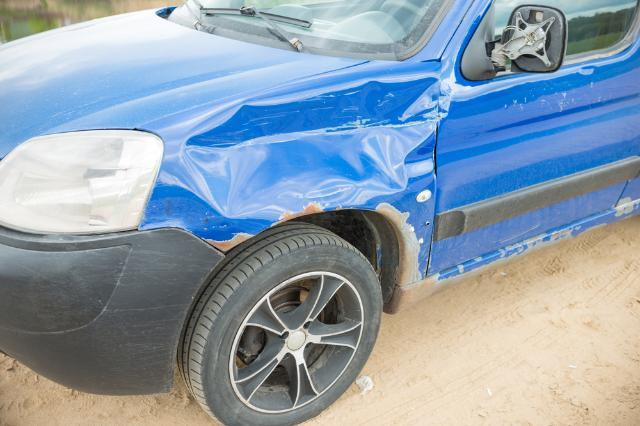dent: (182, 75, 450, 222)
no part: (484, 6, 565, 75)
